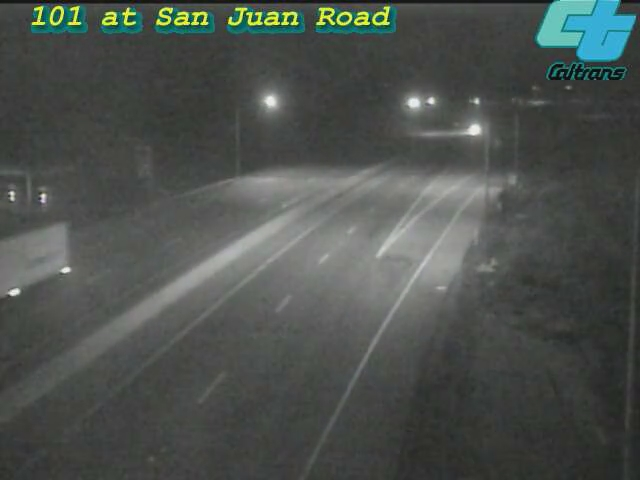vehicle: (1, 224, 65, 304), (450, 104, 500, 154)
